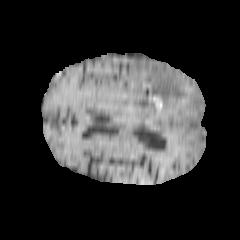glioma: (119, 62, 186, 124)
